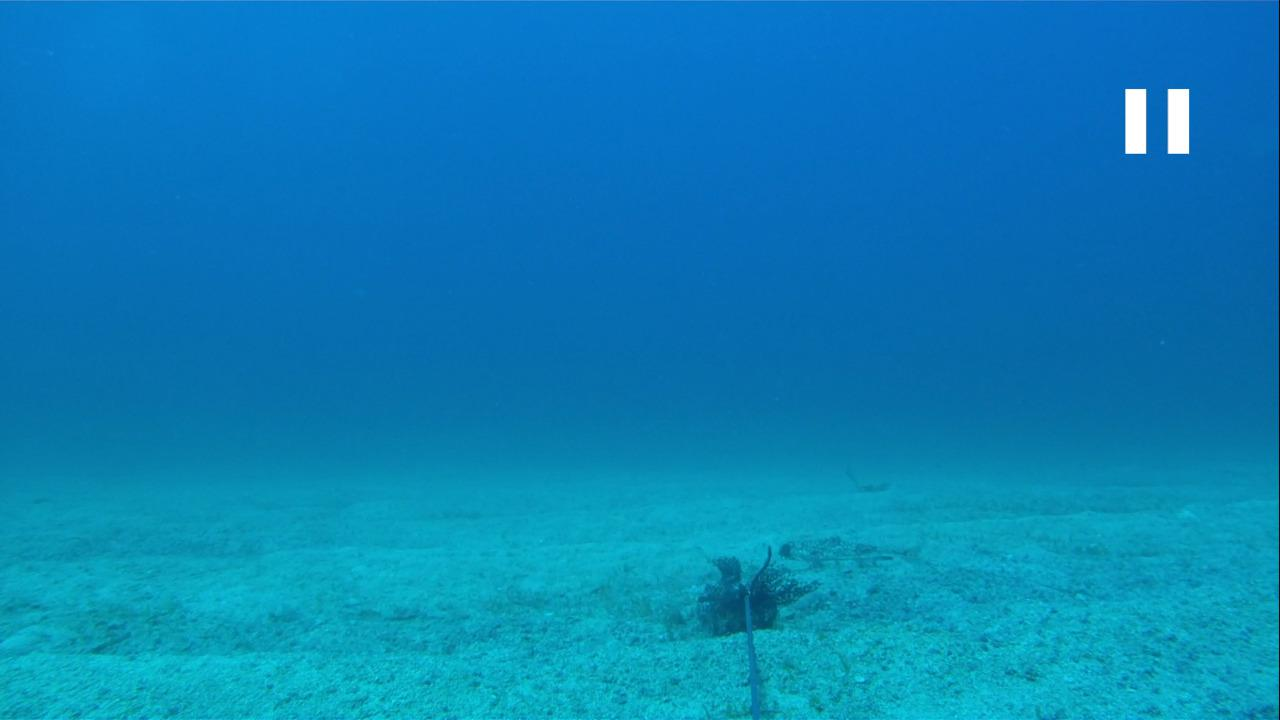dactylopterus: (772, 531, 935, 575)
